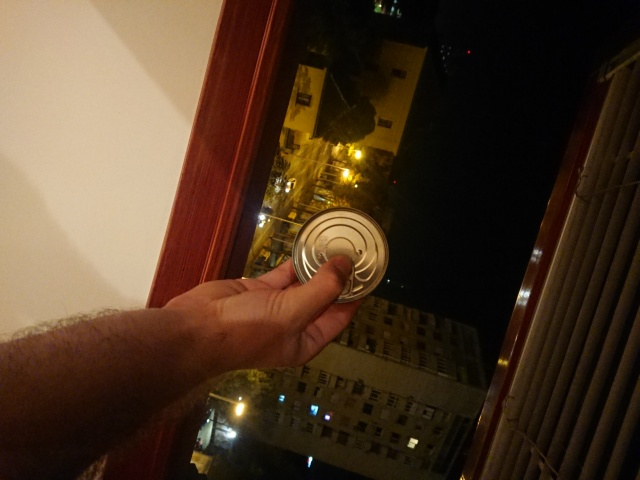Podravka Luncheon Meat 150g: (290, 204, 392, 307)
